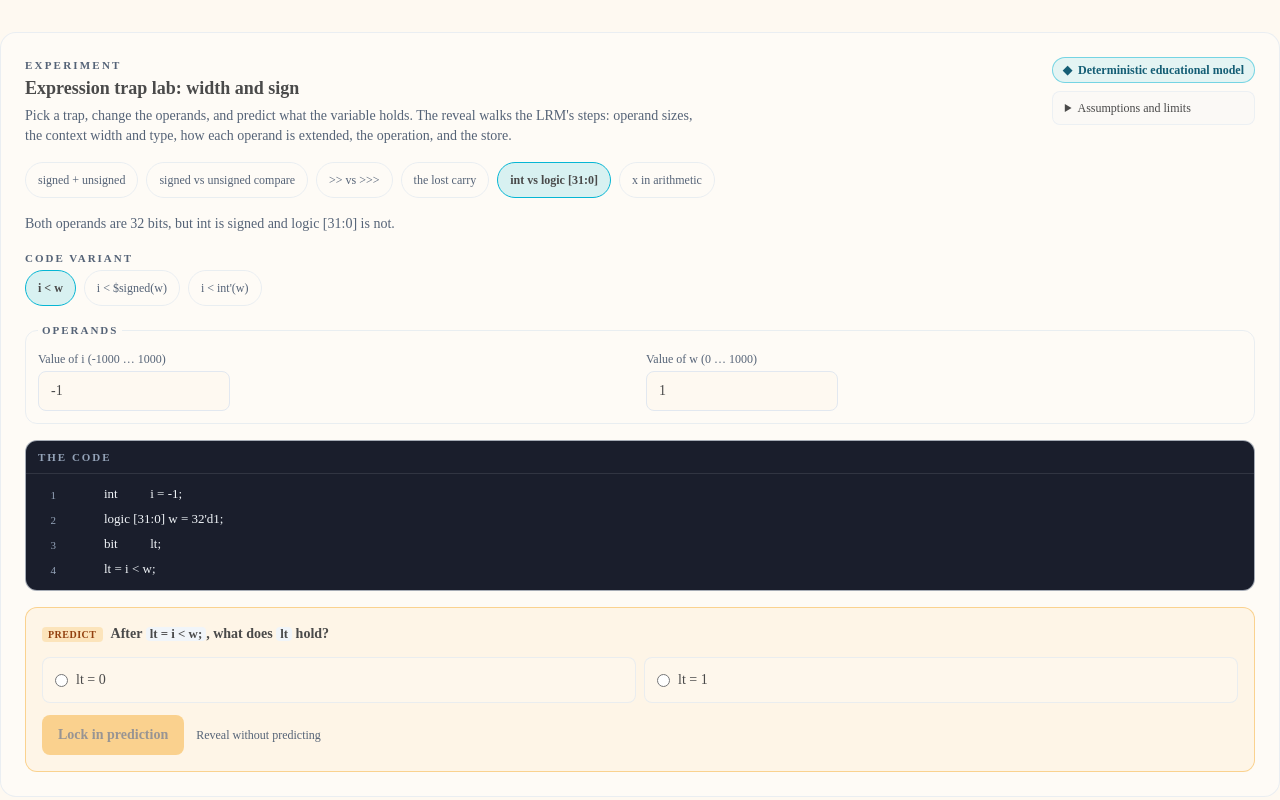
SignednessVisualizer (expression trap lab) › int vs logic [31:0]: explains the unsigned 32-bit comparison
Click the button "Reveal without predicting" at (258, 735), box [196,727,321,743]
(page scrolled)
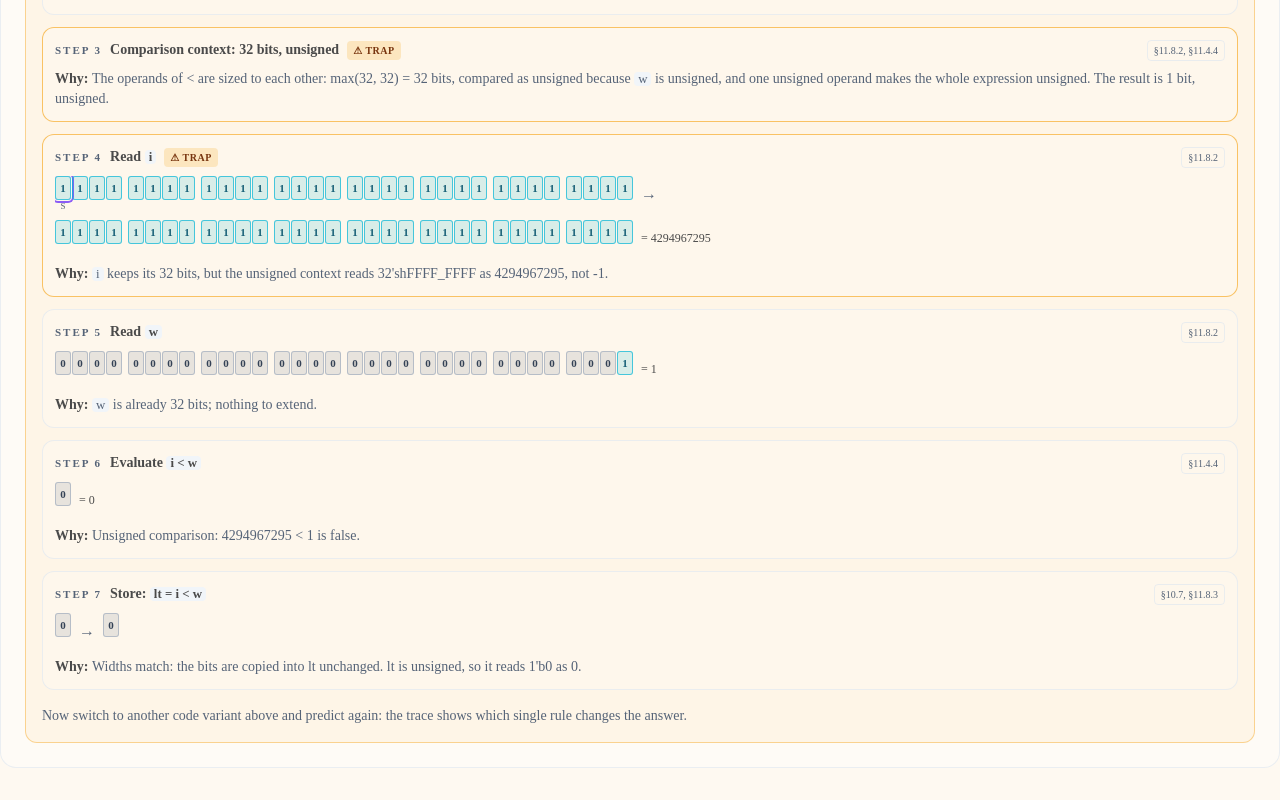
Now the text "Why: Unsigned comparison: 4294967295 < 1 is false." is shown, box [55,528,360,543]
